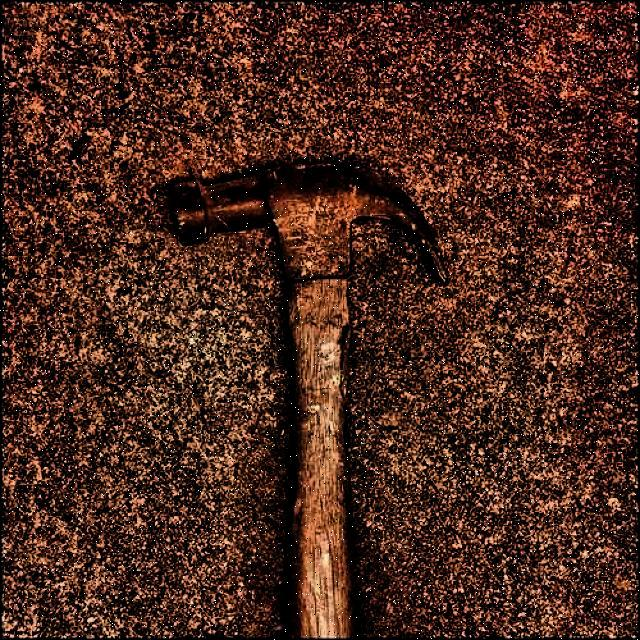hammer: (168, 161, 454, 640)
